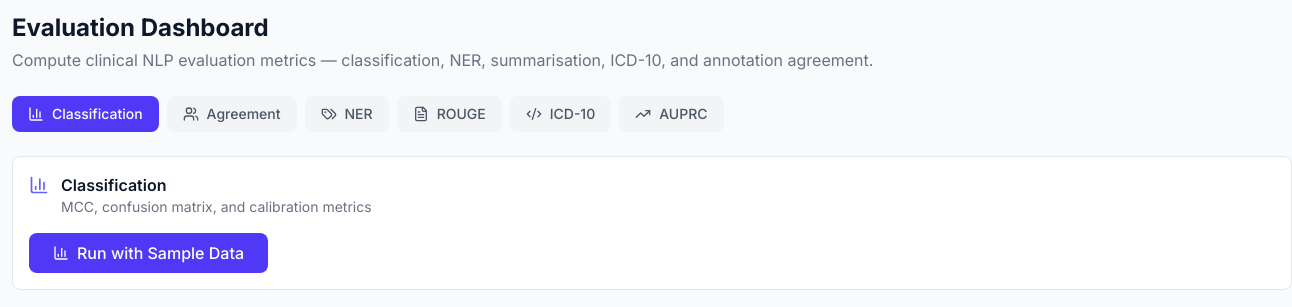
Test: EvaluationDashboard › tab navigation › switches to ROUGE tab
Click the button "ROUGE" at x=449, y=114, box x1=397 y1=96 x2=502 y2=132
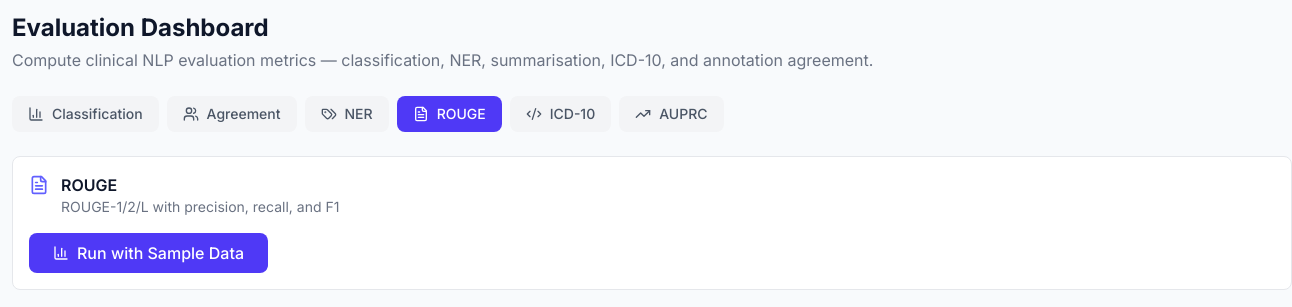
Check: the text "ROUGE-1/2/L with precision, recall, and F1" is shown, box x1=61 y1=197 x2=339 y2=217
